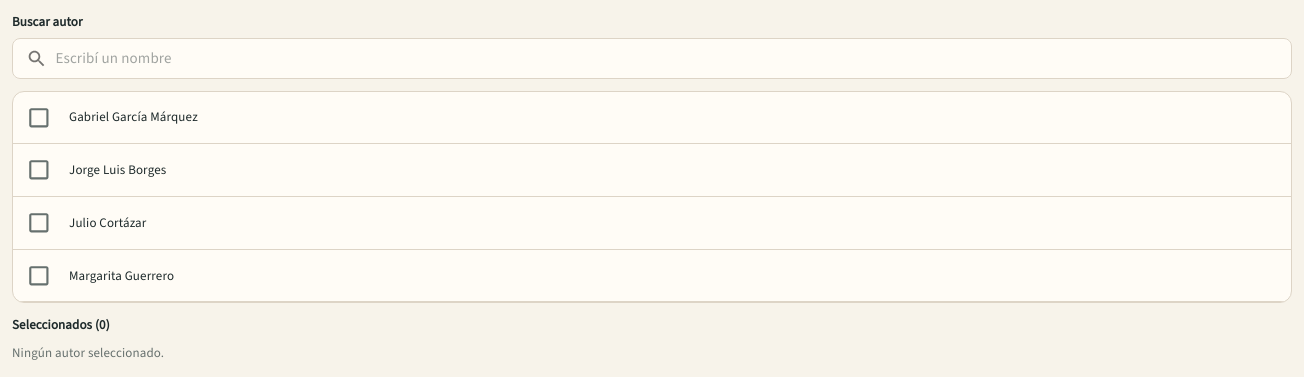
Test: AuthorPicker › avisa "Ya existe" y no ofrece crear un duplicado
Check: the checkbox labelled "Jorge Luis Borges" is shown, box 26,157 -> 52,183
Type "JULIO CORTAZAR" into the field labelled "Buscar autor" at (674, 58), box 55,38 -> 1292,79
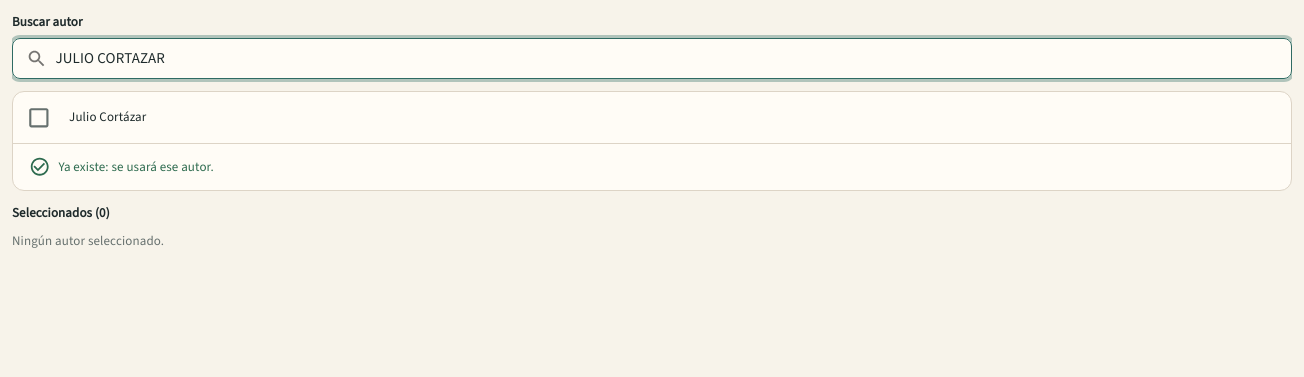
Check: the text "Ya existe: se usará ese autor." is shown, box 58,157 -> 214,177
